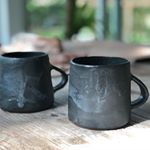cups: (66, 54, 150, 132), (1, 48, 69, 115)
